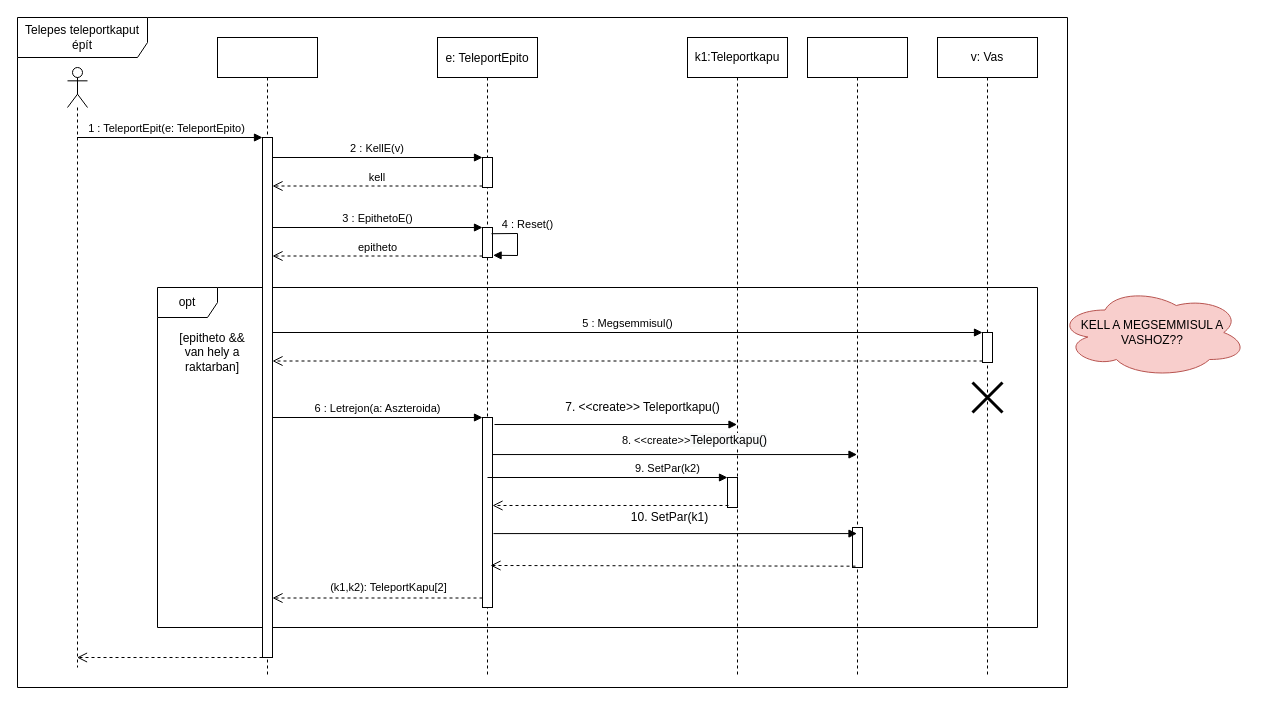
Some shapes in this 1265 by 705 pixel diagram are drawn without their labels. Each missing label, with the box of its shape:
k2:Teleportkapu: (806, 36, 908, 678)
Player: (66, 66, 88, 668)
t: Telepes: (216, 36, 318, 678)
